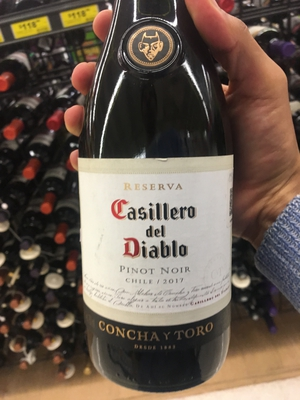casillero del diablo pinot noir: (67, 22, 246, 388)
